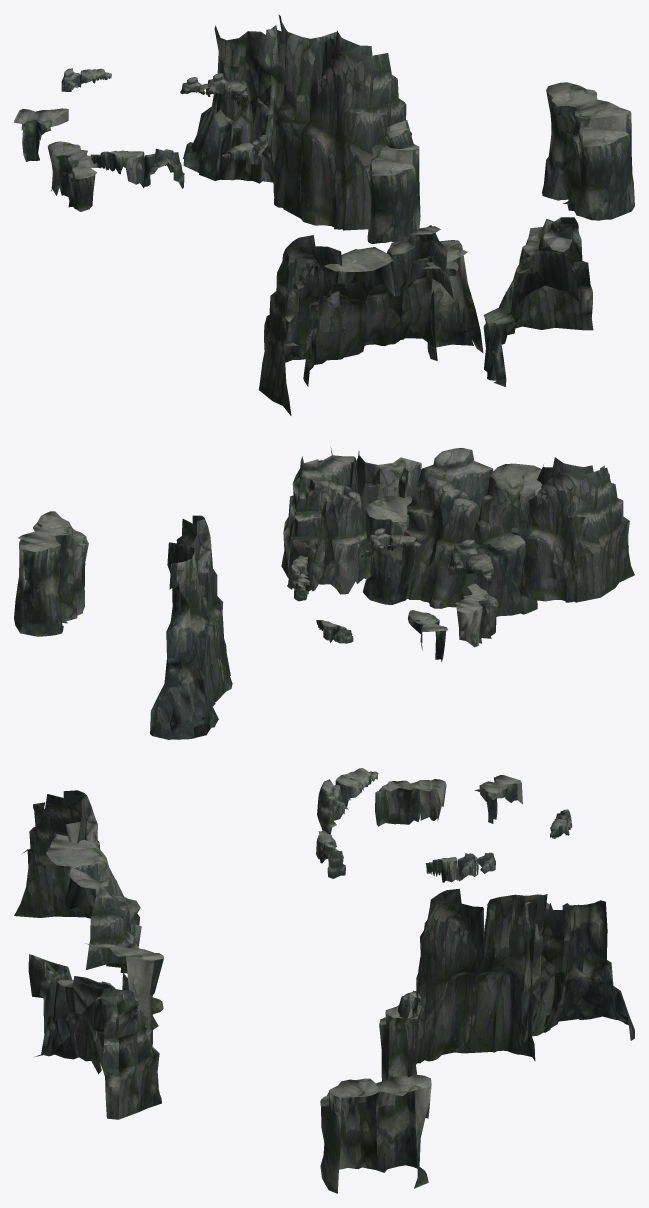
Rendered from forest_04_stone_02.FBX.
3 views of the same model, one above another, from view 1: azimuth 30°, elevation 25°; view 2: azimuth 150°, elevation 25°; view 3: azimuth 270°, elevation 25° (orthographic). The views are drawn at different scales.
Parts seen in each view (by area): view 1: stone2; view 2: stone2; view 3: stone2.
Boxes of the visible parts, x1=… form: stone2: x1=14, y1=14, x2=634, y2=415; stone2: x1=14, y1=447, x2=634, y2=739; stone2: x1=14, y1=768, x2=634, y2=1193.
Bounding box in the file's own units: 141 × 49.84 × 140.
1 material, 1 textured.
